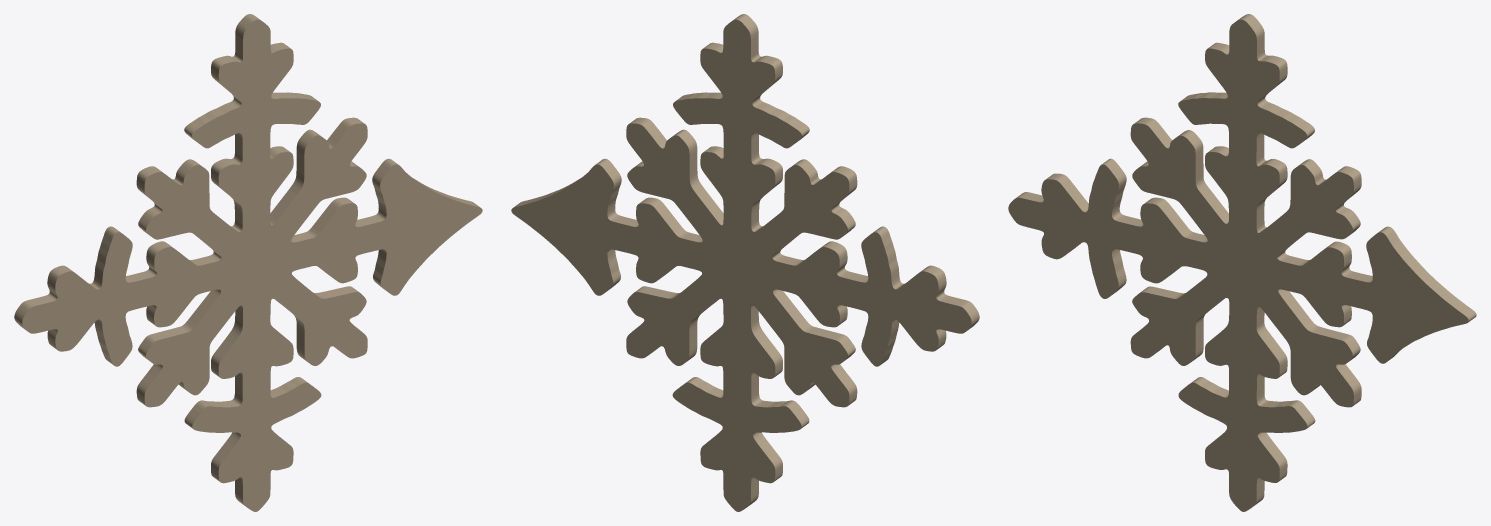
File: SkiTheEast_Decor.glb
3 renders of one model, left to right at view 1: azimuth 30°, elevation 25°; view 2: azimuth 150°, elevation 25°; view 3: azimuth 330°, elevation 25°, orthographic.
Visible parts, largest first — view 1: Part 1; view 2: Part 1; view 3: Part 1.
Part boxes in pixels (<box>): Part 1: <box>14,14,482,511</box>; Part 1: <box>511,14,979,511</box>; Part 1: <box>1008,14,1476,511</box>.
Bounding box in the file's own units: 0.8661 × 0.8843 × 0.0254.
